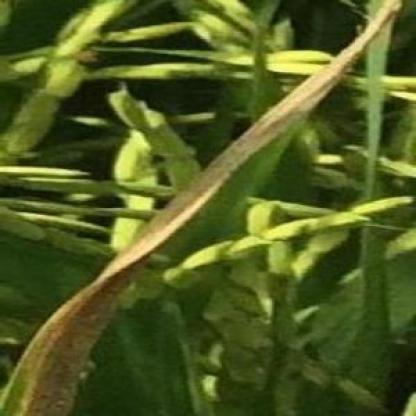Blight: (1, 1, 410, 416)
